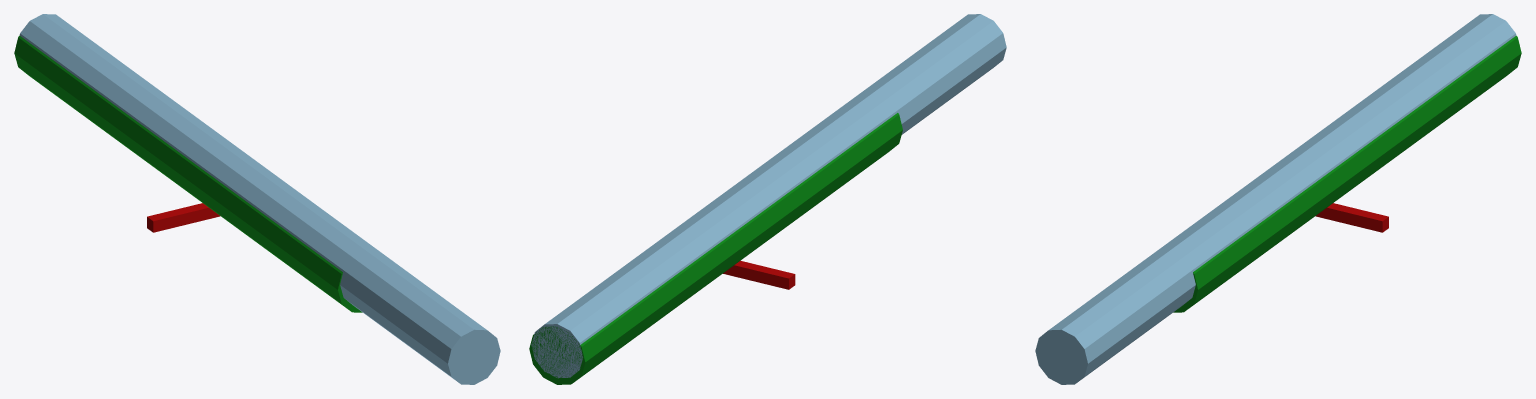
File: coolant_level_ok.obj
3 renders of one model, left to right at view 1: azimuth 30°, elevation 25°; view 2: azimuth 150°, elevation 25°; view 3: azimuth 330°, elevation 25°, orthographic.
Parts seen in each view (by area): view 1: coolant_level_ok; view 2: coolant_level_ok; view 3: coolant_level_ok.
Part boxes in pixels (x1=…): coolant_level_ok: x1=14, y1=14, x2=500, y2=384; coolant_level_ok: x1=529, y1=14, x2=1006, y2=384; coolant_level_ok: x1=1035, y1=14, x2=1521, y2=384.
Bounding box in the file's own units: 0.06 × 0.032 × 0.34.
